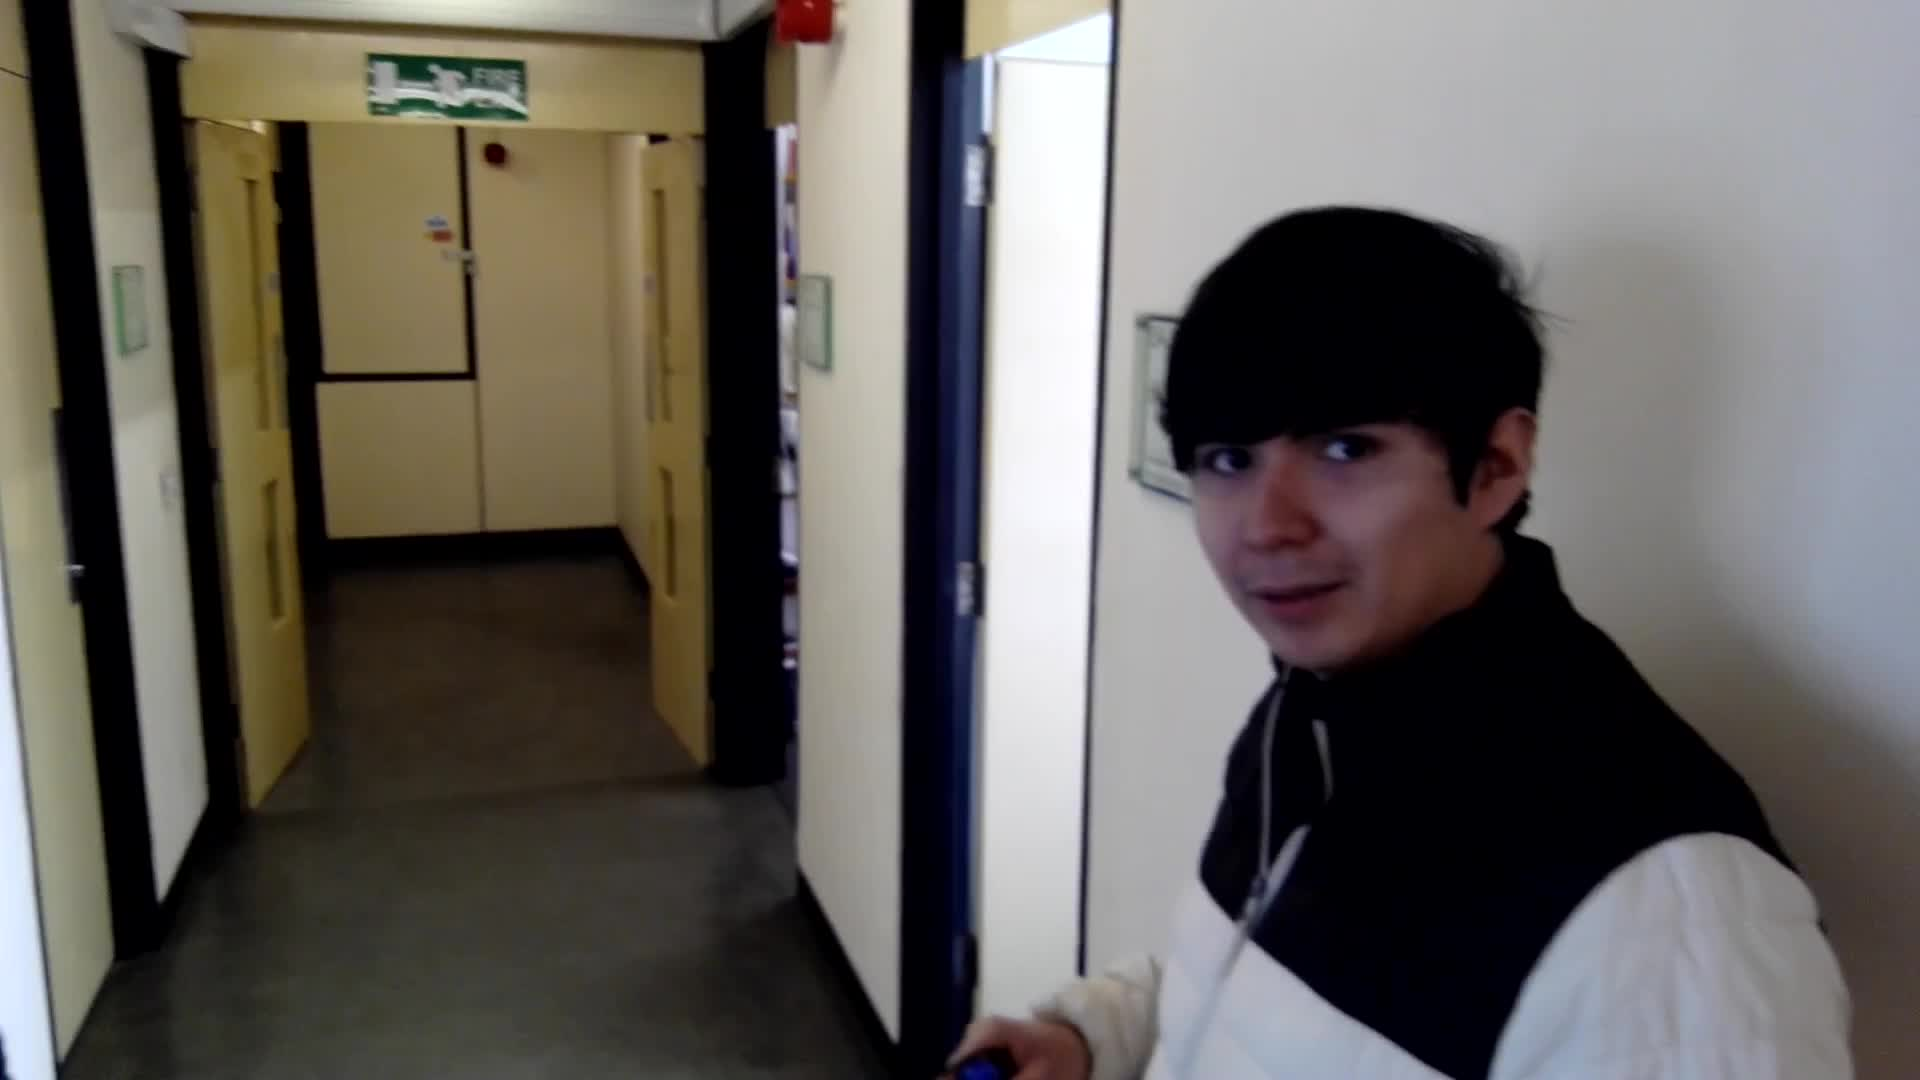Person: (1066, 197, 1873, 1080)
